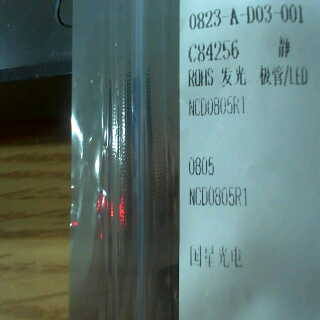LED: (215, 62, 317, 89)
